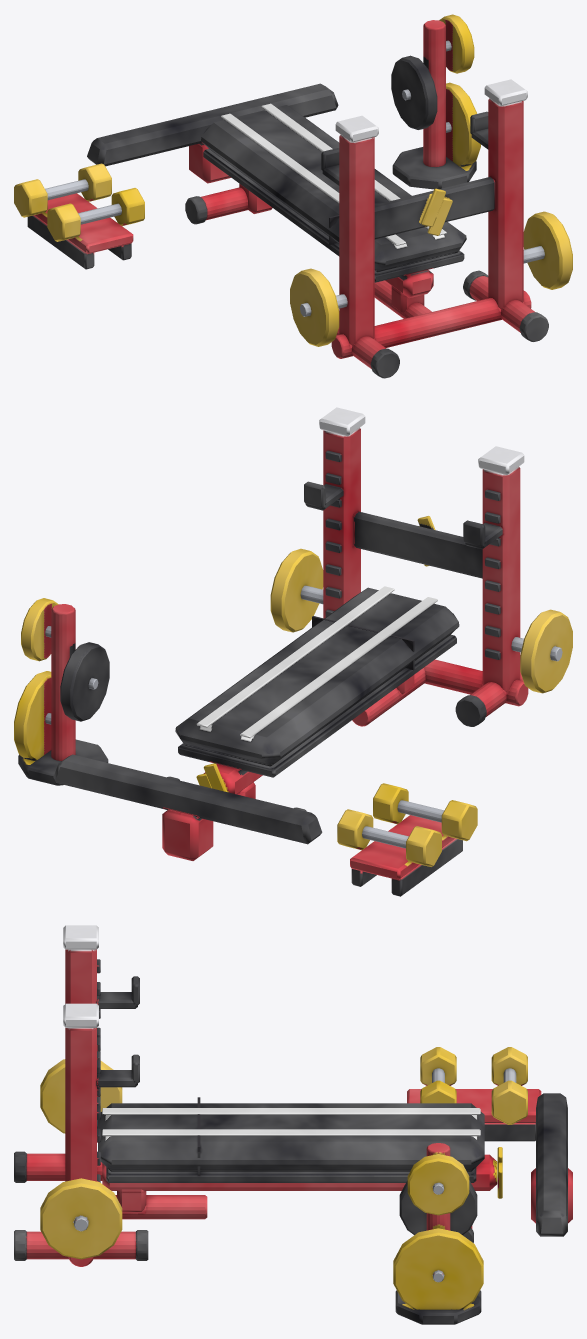
File: Bench_Sport_Rig.fbx
3 views of the same model, one above another, from view 1: azimuth 30°, elevation 25°; view 2: azimuth 150°, elevation 25°; view 3: azimuth 270°, elevation 25° (orthographic). The views are drawn at different scales.
Visible parts, largest first — view 1: Rack, Weights, Bench, Decor; view 2: Rack, Weights, Bench, Decor; view 3: Bench, Weights, Rack, Decor.
Part boxes in pixels (bbox=[...]): Rack: bbox=[290, 79, 572, 378]; Weights: bbox=[14, 14, 480, 269]; Bench: bbox=[185, 105, 466, 298]; Decor: bbox=[221, 103, 446, 245]; Rack: bbox=[270, 407, 572, 726]; Weights: bbox=[14, 598, 477, 896]; Bench: bbox=[167, 587, 459, 811]; Decor: bbox=[196, 586, 437, 738]; Bench: bbox=[98, 1097, 502, 1242]; Weights: bbox=[393, 1047, 572, 1324]; Rack: bbox=[14, 925, 207, 1266]; Decor: bbox=[102, 1108, 480, 1136].
Size of the model in its own units: 11.23 by 6 by 12.2.
1 material, 1 textured.
